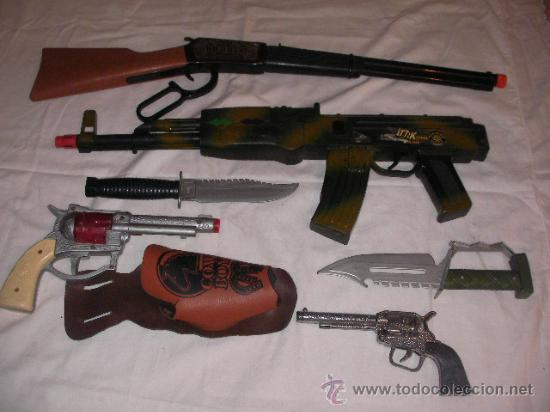Arma Falsa: (44, 107, 483, 222), (23, 28, 519, 103), (1, 211, 220, 311)
